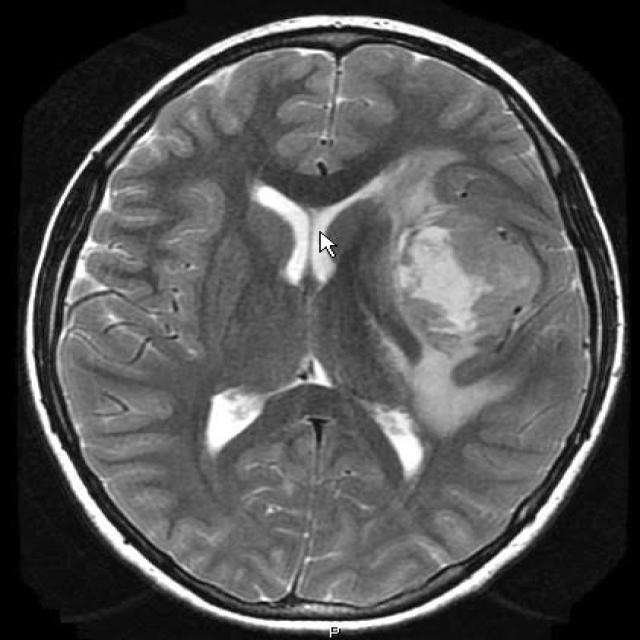Tumor-Cell: (357, 153, 573, 373)
